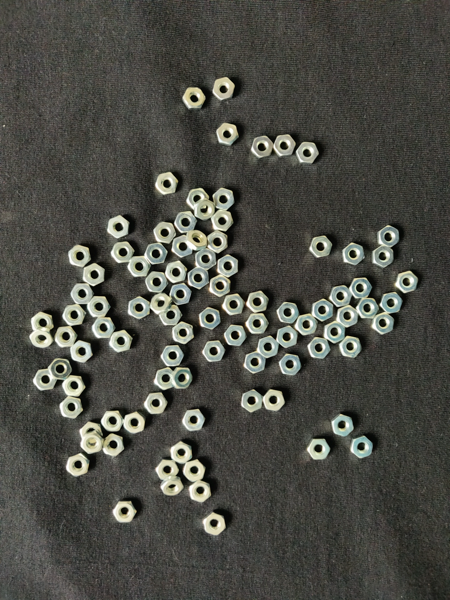nut: (202, 512, 227, 536), (66, 453, 90, 478), (81, 431, 105, 455), (48, 358, 73, 381), (113, 501, 137, 524), (350, 436, 374, 459), (156, 458, 180, 481), (109, 330, 133, 353), (155, 172, 179, 195), (213, 77, 236, 101), (331, 414, 354, 437), (183, 409, 206, 432), (257, 336, 280, 359), (70, 341, 93, 364), (247, 291, 270, 314), (329, 285, 352, 308), (372, 312, 395, 335), (397, 271, 420, 294), (343, 243, 366, 266), (55, 326, 78, 349), (170, 283, 193, 306), (165, 261, 188, 284), (83, 264, 106, 287), (296, 142, 319, 165), (307, 439, 331, 461), (101, 411, 125, 433), (62, 376, 86, 398), (145, 393, 169, 415), (277, 325, 299, 349), (339, 336, 363, 358), (309, 236, 333, 258), (128, 296, 150, 320), (111, 242, 135, 264), (153, 222, 177, 244), (211, 210, 235, 232), (33, 370, 58, 391), (159, 305, 184, 326), (184, 460, 206, 483), (171, 442, 193, 465), (103, 434, 125, 457), (124, 412, 146, 435), (60, 397, 83, 419), (161, 345, 184, 367), (279, 354, 302, 376), (244, 351, 266, 374), (308, 338, 331, 360), (324, 321, 346, 344), (203, 341, 226, 363), (277, 302, 300, 324), (312, 299, 334, 322), (380, 292, 403, 314), (373, 245, 395, 268), (377, 226, 400, 248), (223, 294, 246, 316), (63, 304, 86, 326), (145, 271, 168, 293), (69, 245, 91, 268), (128, 256, 151, 278), (145, 243, 168, 265), (108, 216, 130, 239), (171, 235, 193, 258), (194, 199, 216, 222), (274, 135, 297, 157), (217, 123, 239, 146), (183, 88, 206, 110), (356, 298, 380, 319), (30, 327, 54, 348), (87, 297, 111, 318), (186, 189, 210, 210), (190, 481, 212, 503), (263, 390, 285, 412), (296, 314, 318, 336), (337, 306, 359, 328), (225, 325, 247, 347), (252, 136, 274, 158), (242, 390, 263, 413), (350, 278, 373, 299), (173, 322, 194, 345), (200, 307, 221, 330), (150, 294, 173, 315), (218, 255, 239, 278), (207, 231, 228, 254), (175, 212, 198, 233), (214, 188, 235, 211), (92, 318, 116, 338), (80, 423, 102, 444), (171, 368, 193, 389), (210, 275, 231, 297), (196, 249, 217, 271), (186, 230, 208, 251), (155, 368, 175, 391), (246, 314, 269, 334), (71, 284, 94, 304), (189, 267, 209, 290), (161, 477, 184, 496), (31, 312, 53, 331)
